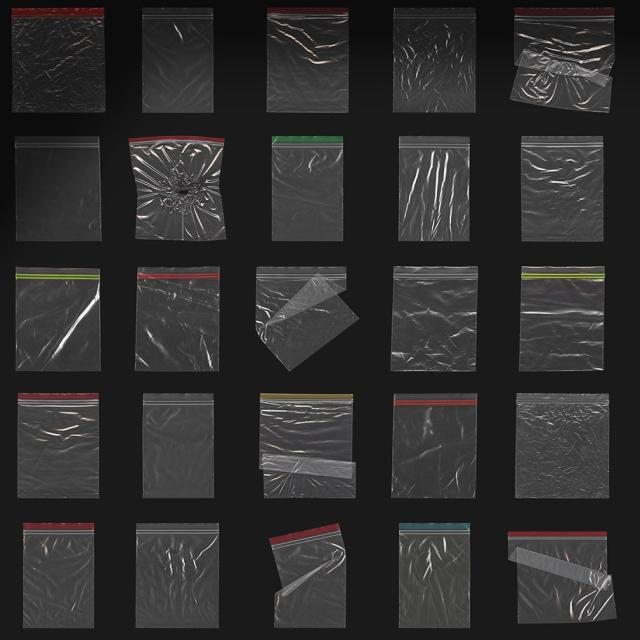Single-layer Plastic: (510, 9, 615, 111), (257, 266, 357, 370), (259, 394, 356, 499), (130, 136, 226, 241), (508, 531, 617, 623), (516, 394, 609, 498), (12, 8, 103, 112), (15, 136, 101, 241), (391, 266, 477, 371), (392, 394, 477, 498), (520, 266, 604, 371), (136, 266, 219, 371), (136, 524, 219, 628), (521, 136, 603, 241), (17, 394, 99, 499), (16, 268, 99, 371), (394, 8, 476, 112), (267, 8, 348, 112), (270, 524, 347, 628), (271, 136, 344, 241), (23, 522, 94, 629), (142, 394, 214, 498), (399, 136, 470, 241), (399, 524, 470, 627), (142, 8, 212, 112)
